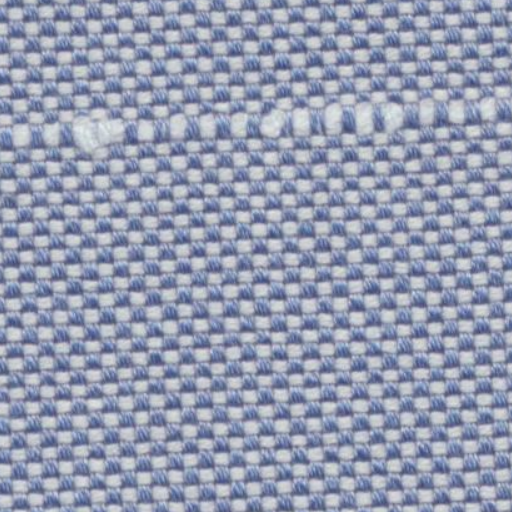DaiSha: (13, 90, 496, 162)
